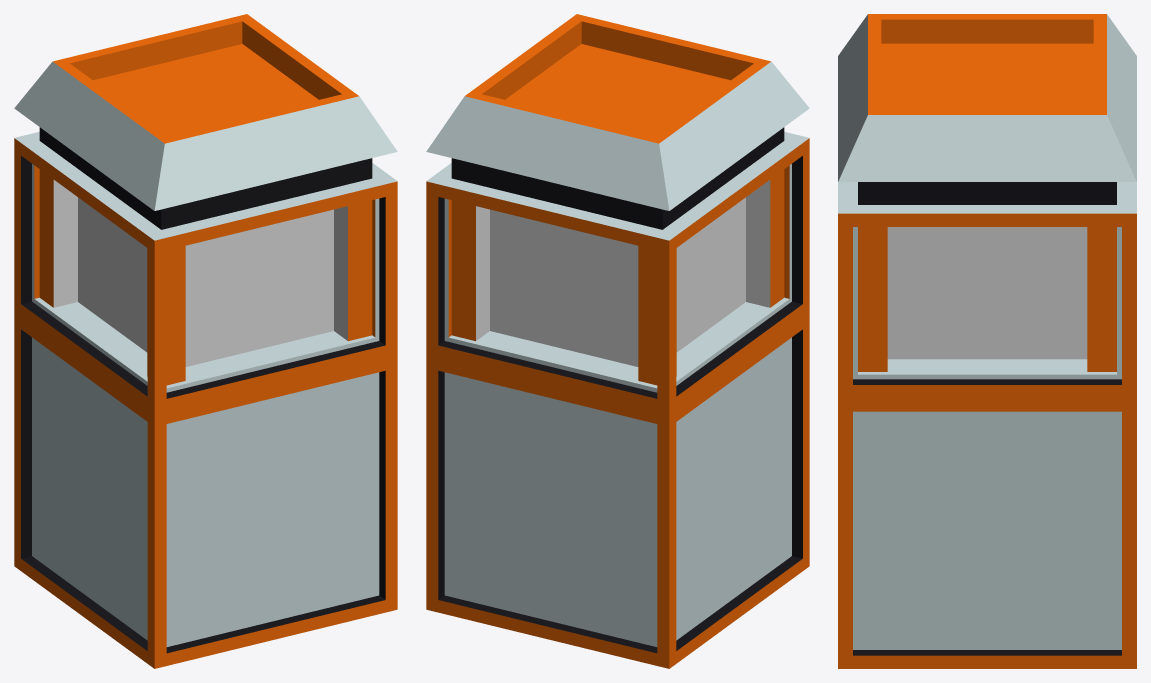
The model's file is Tower.fbx.
The picture shows the model from 3 angles, left to right: view 1: azimuth 30°, elevation 25°; view 2: azimuth 150°, elevation 25°; view 3: azimuth 270°, elevation 25°; orthographic projection. The views are drawn at different scales.
Parts seen in each view (by area): view 1: Cube; view 2: Cube; view 3: Cube.
Boxes of the visible parts, box(x1,y1,x2,y2) form: Cube: box(14, 14, 397, 668); Cube: box(426, 14, 809, 668); Cube: box(838, 14, 1136, 668).
Size of the model in its own units: 200 by 400 by 200.
